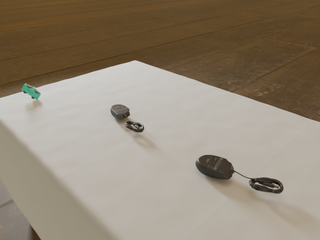mouse: (196, 155, 237, 179), (110, 105, 130, 119)
toy_car: (21, 84, 41, 100)
